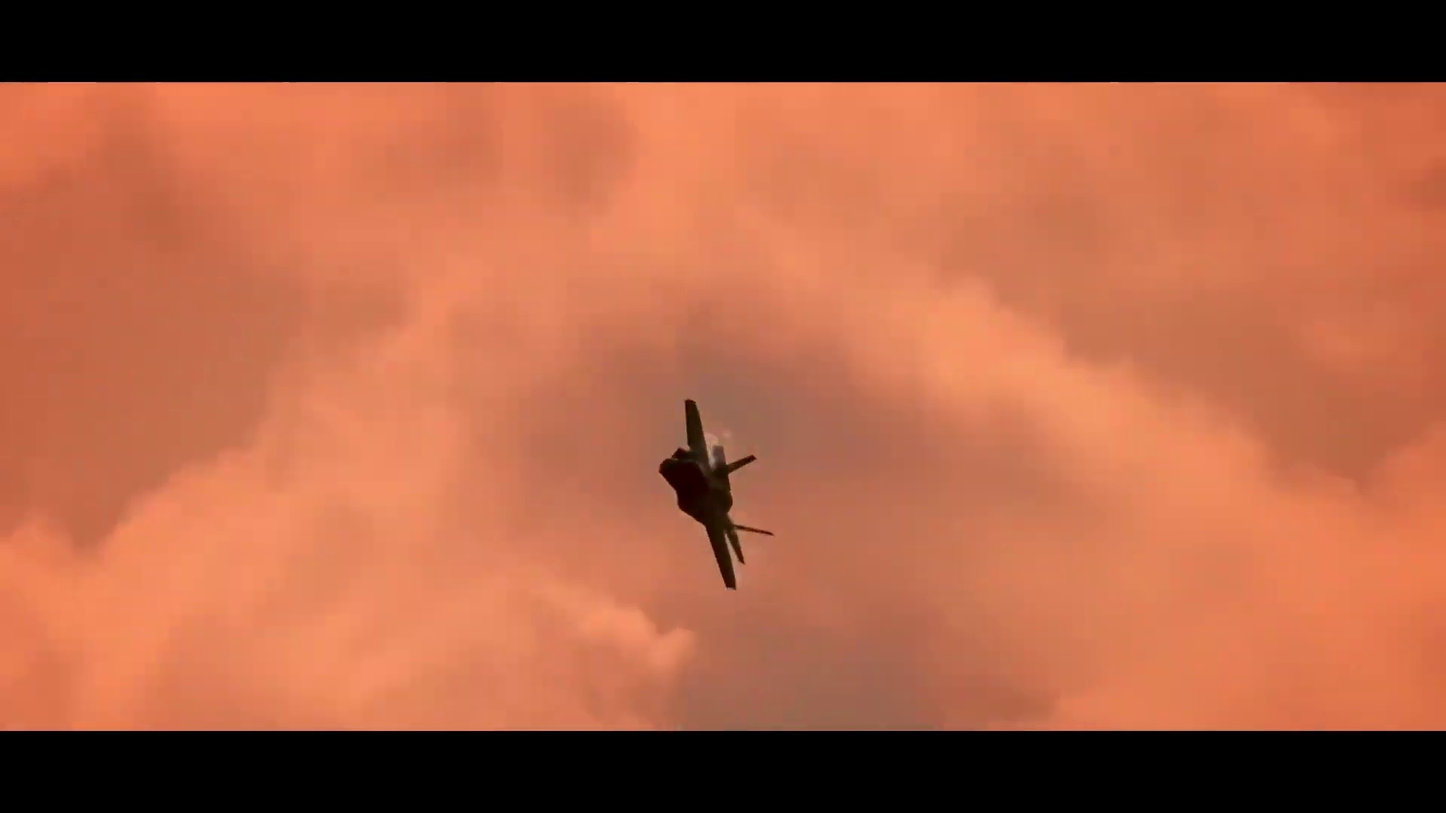F35: (655, 395, 777, 593)
